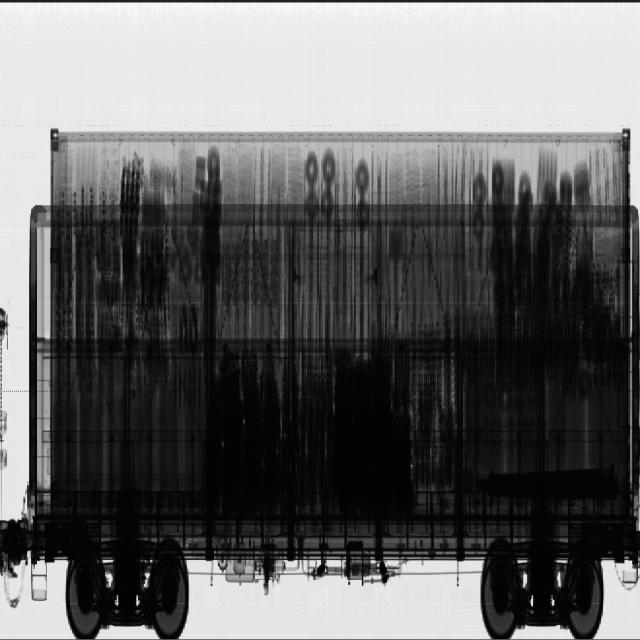shoes: (220, 142, 303, 207), (387, 151, 438, 209)
